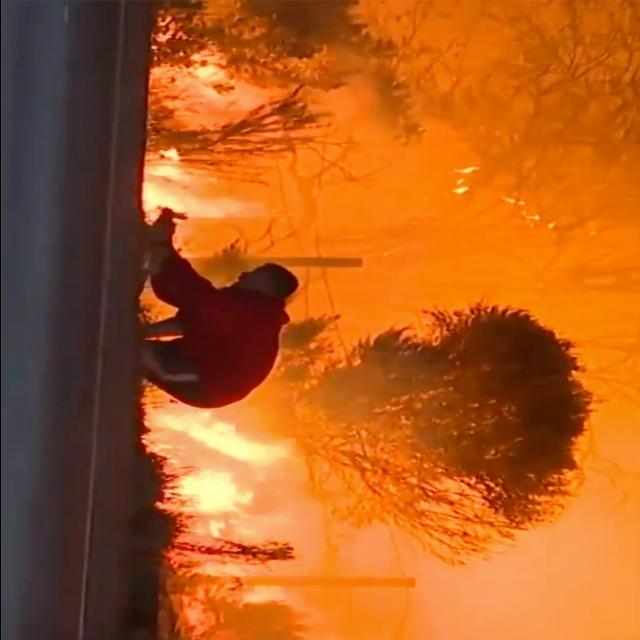Fire: (138, 40, 300, 602)
